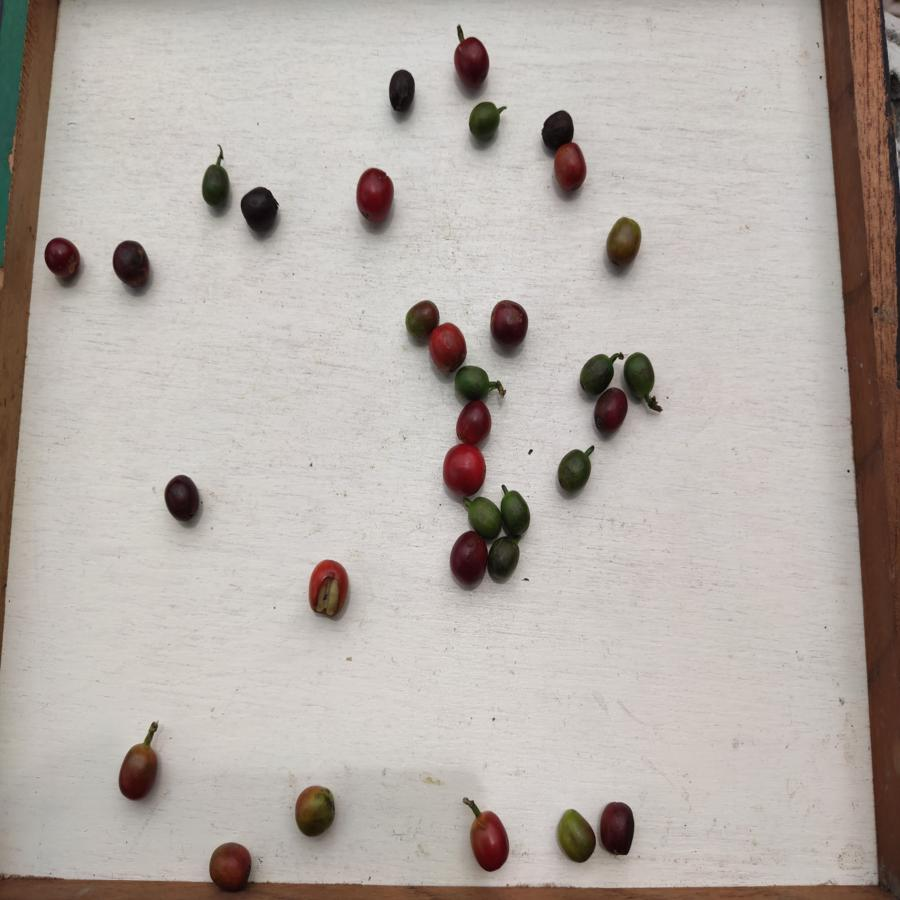Inmaduro: (557, 448, 592, 495), (625, 351, 654, 401), (577, 353, 614, 392), (487, 537, 520, 579), (201, 161, 231, 207), (499, 491, 530, 535), (467, 100, 501, 140), (454, 365, 492, 399), (466, 498, 500, 535)
Maduro: (469, 809, 512, 870), (308, 558, 348, 618), (207, 842, 254, 890), (442, 443, 485, 495), (356, 165, 393, 220), (554, 144, 587, 192), (454, 400, 491, 442), (431, 324, 464, 371)
Pinton: (292, 784, 338, 840), (116, 744, 158, 800), (556, 805, 595, 863), (607, 218, 641, 269), (404, 301, 434, 342)
Sobremaduro: (451, 33, 490, 89), (599, 799, 635, 858), (489, 299, 528, 350), (111, 240, 151, 289), (241, 186, 279, 235), (450, 532, 483, 588), (164, 475, 201, 522), (593, 388, 629, 435), (44, 238, 81, 280), (539, 109, 575, 144), (388, 70, 415, 111)
